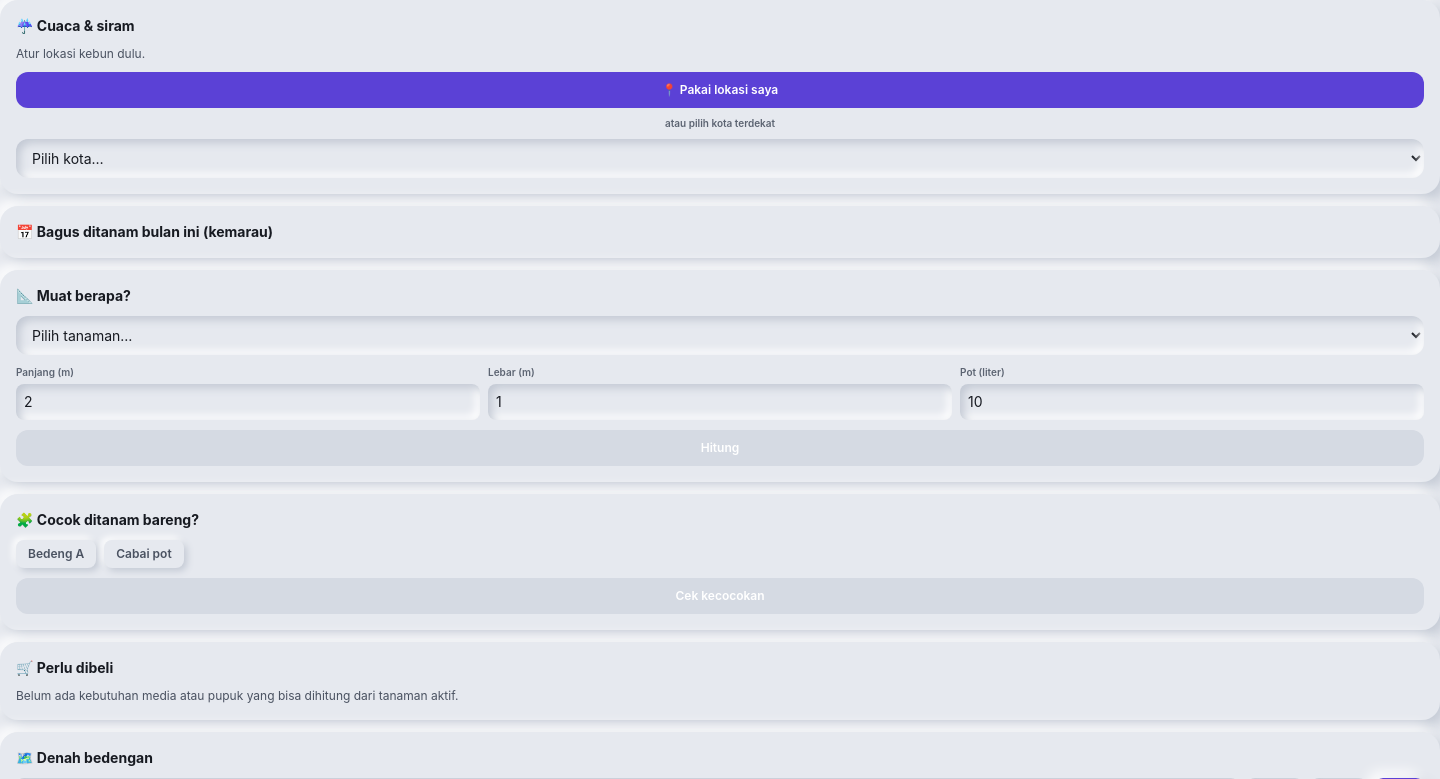
Test: GardenPlanner › mengecek kecocokan susun-tanam dari tanaman yang dipilih
What coordinates should you click on to do the following:
click the button "Bedeng A"
I would click on:
 (56, 554)
Its box is [16,540,96,568].
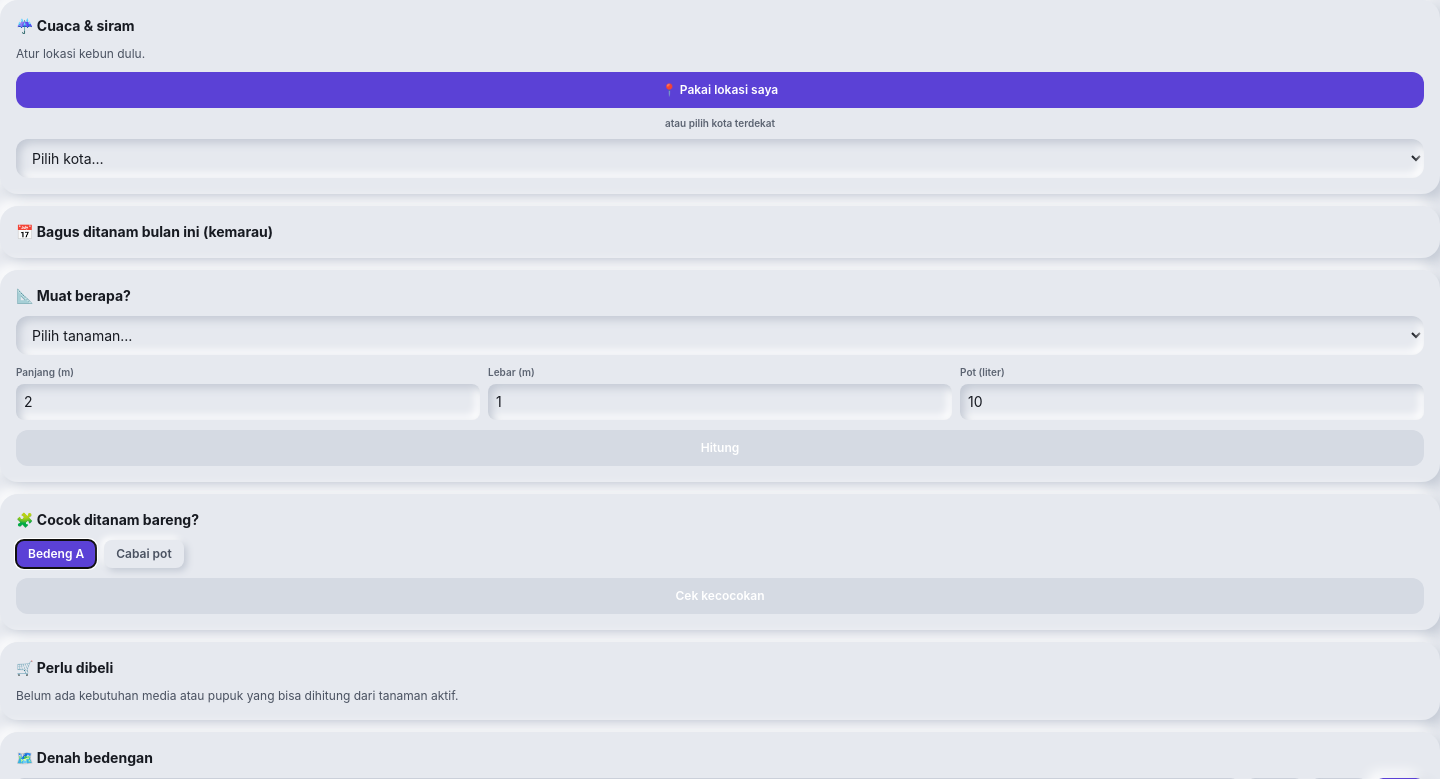
What coordinates should you click on to do the following:
click the button "Cabai pot"
I would click on:
 (144, 554)
Its box is [104,540,184,568].
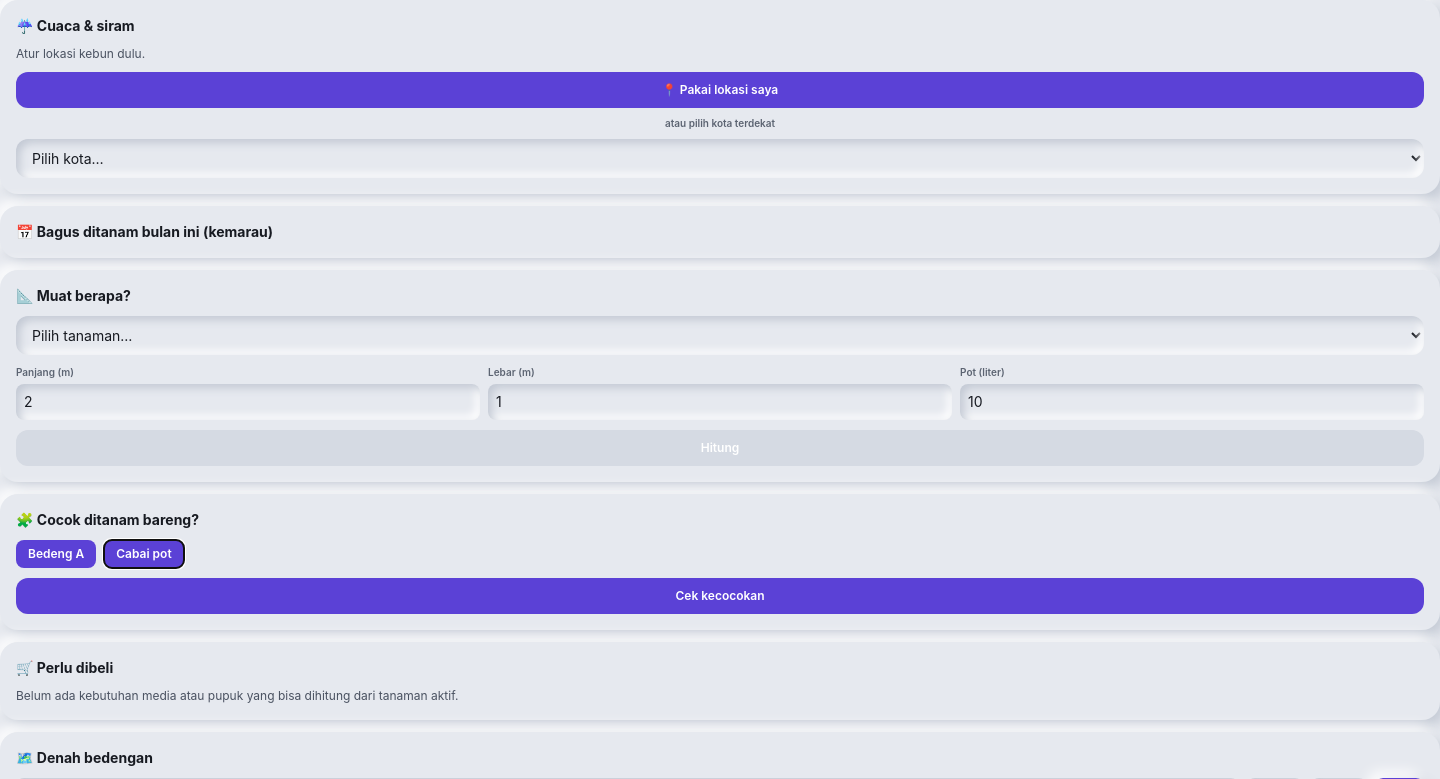
What coordinates should you click on to do the following:
click the button "Cek kecocokan"
I would click on:
 (720, 596)
Its box is [16,578,1424,614].
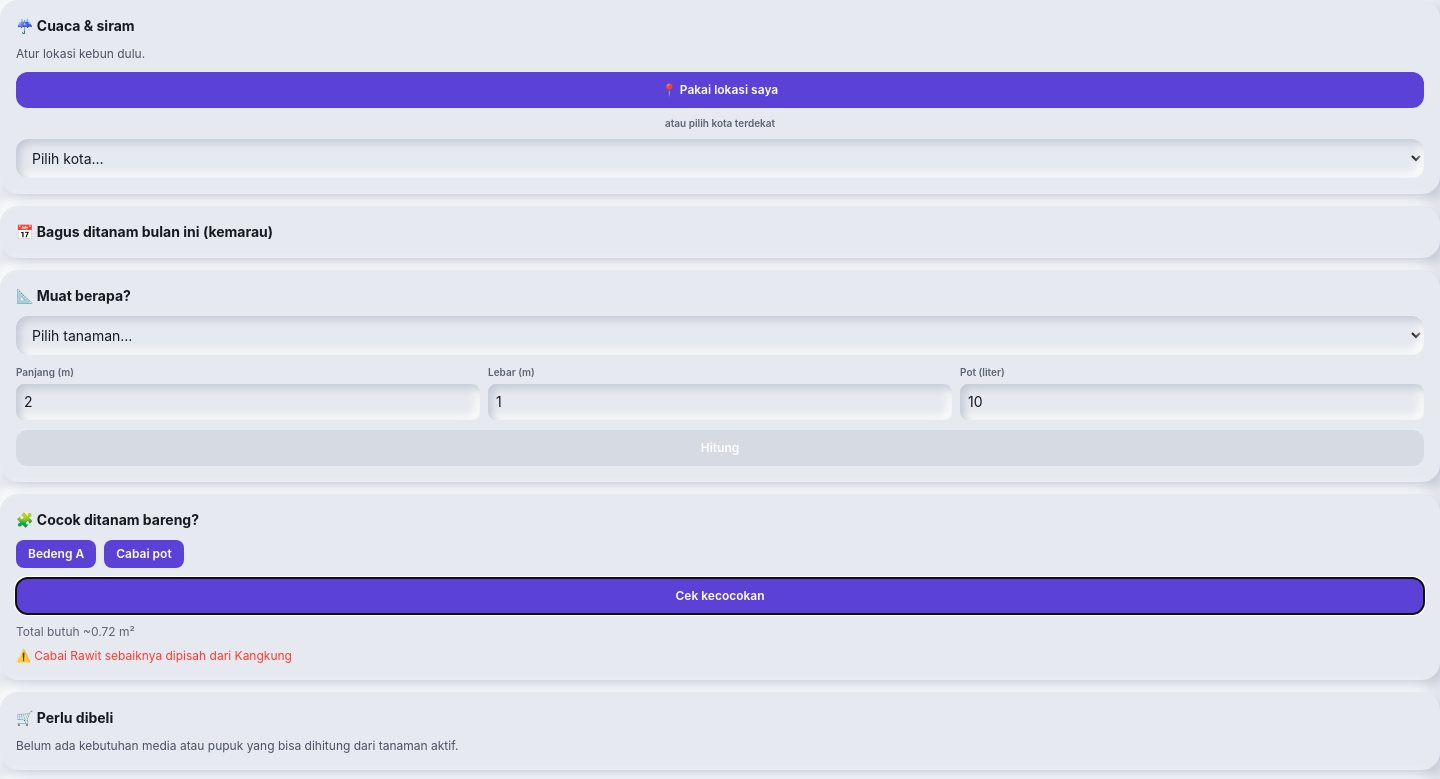
Check: the text "⚠️ Cabai Rawit sebaiknya dipisah dari Kangkung" is shown, box [16,648,292,663]
